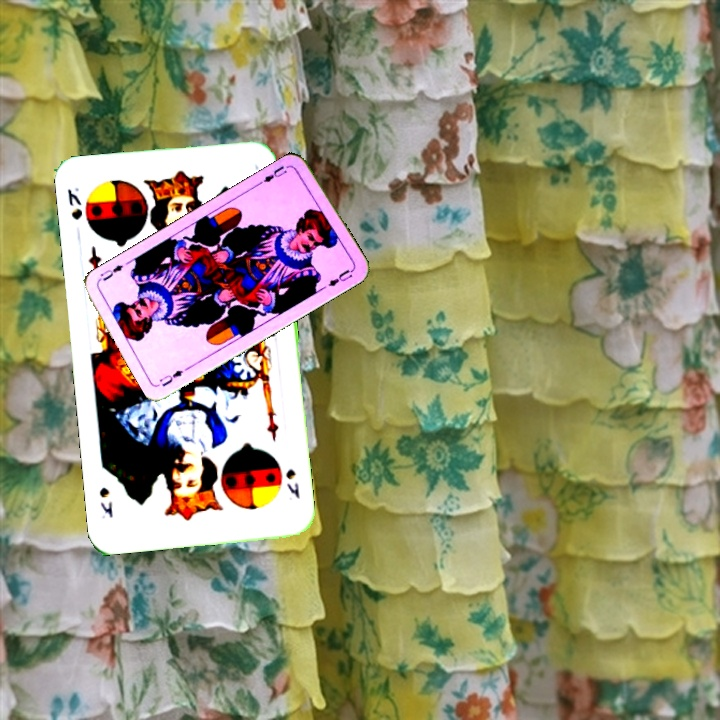EU: (155, 366, 186, 389), (260, 162, 290, 185)
SK: (63, 184, 85, 222), (282, 465, 302, 502)
